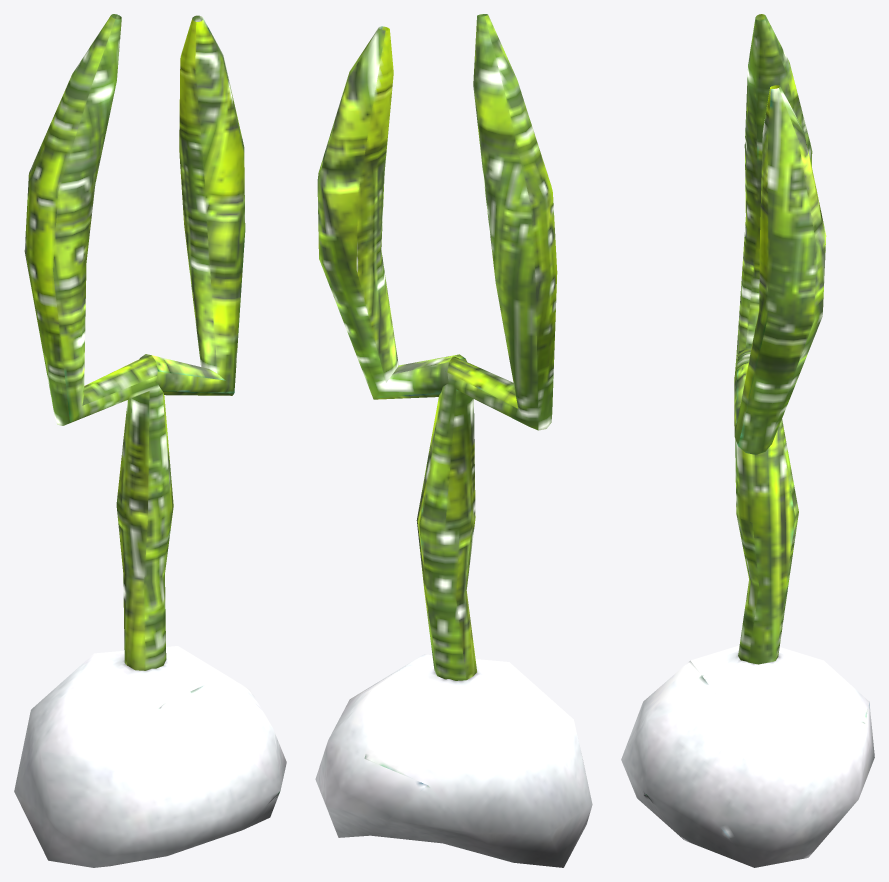
File: LightGreenGrass.glb
The picture shows the model from 3 angles, left to right: view 1: azimuth 30°, elevation 25°; view 2: azimuth 150°, elevation 25°; view 3: azimuth 270°, elevation 25°; orthographic projection. The views are drawn at different scales.
Visible parts, largest first — view 1: 平面.001, 棱角球.001; view 2: 平面.001, 棱角球.001; view 3: 棱角球.001, 平面.001.
Part boxes in pixels (box(x1,y1,x2,y2)): 平面.001: box(24, 14, 245, 670); 棱角球.001: box(14, 646, 286, 867); 平面.001: box(317, 14, 557, 680); 棱角球.001: box(315, 654, 592, 867); 棱角球.001: box(621, 645, 874, 867); 平面.001: box(734, 14, 826, 664).
Size of what is drawn, in the model's own units: 1.92 by 6.54 by 1.9.
2 materials, 2 textured.
